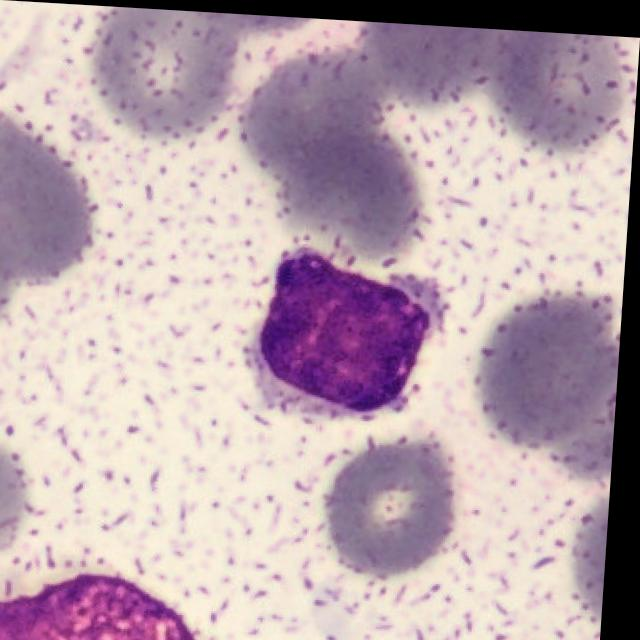Linfocito: (253, 239, 437, 413)
